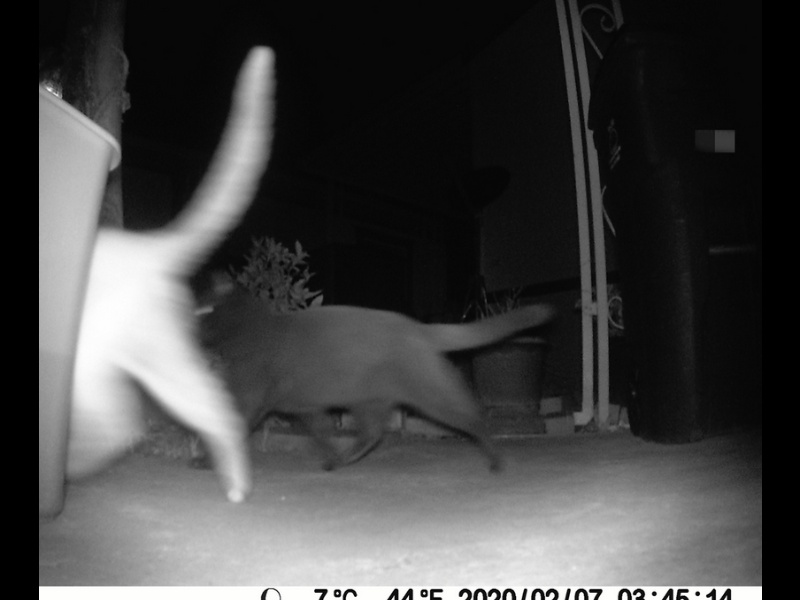cat: (59, 36, 282, 516), (184, 267, 557, 482)
